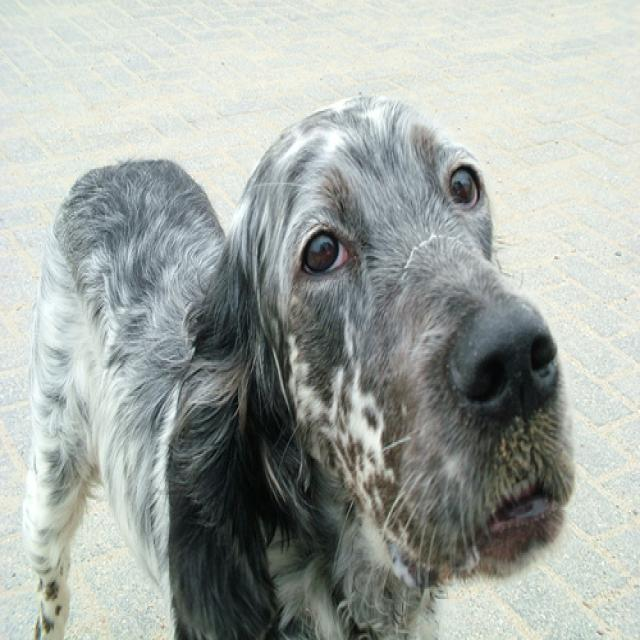dog-english_setter: (9, 68, 586, 637)
